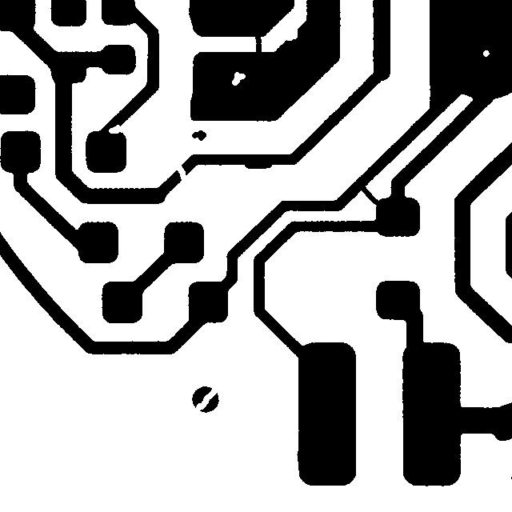copper: (184, 122, 214, 148)
mousebite: (278, 20, 305, 48), (101, 117, 128, 141)
open: (186, 377, 226, 424), (167, 157, 194, 188)
pin-hole: (224, 64, 253, 93)
short: (352, 178, 393, 218), (246, 24, 269, 68)
spur: (237, 152, 279, 176)
